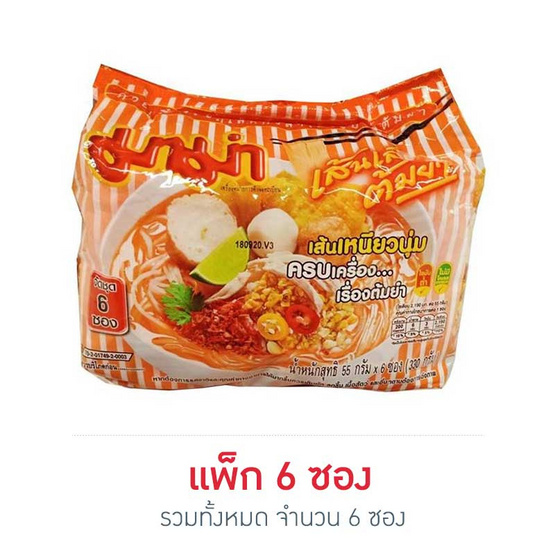Snack: (69, 61, 493, 400)
